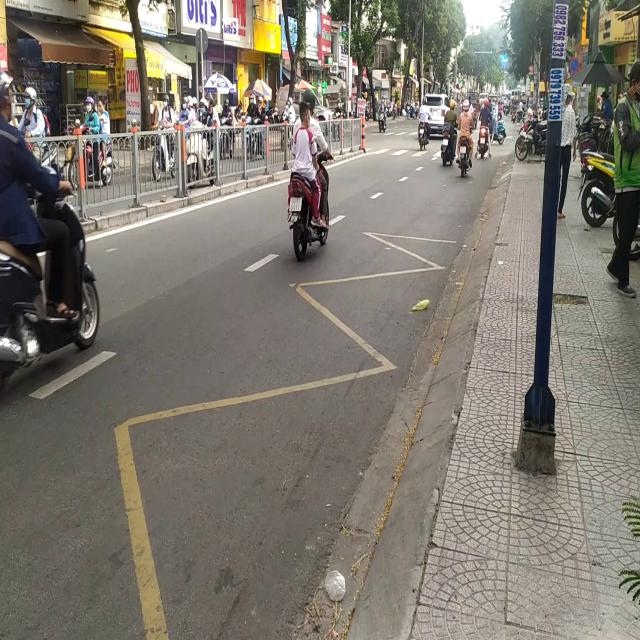bien_trang: (287, 193, 303, 215)
